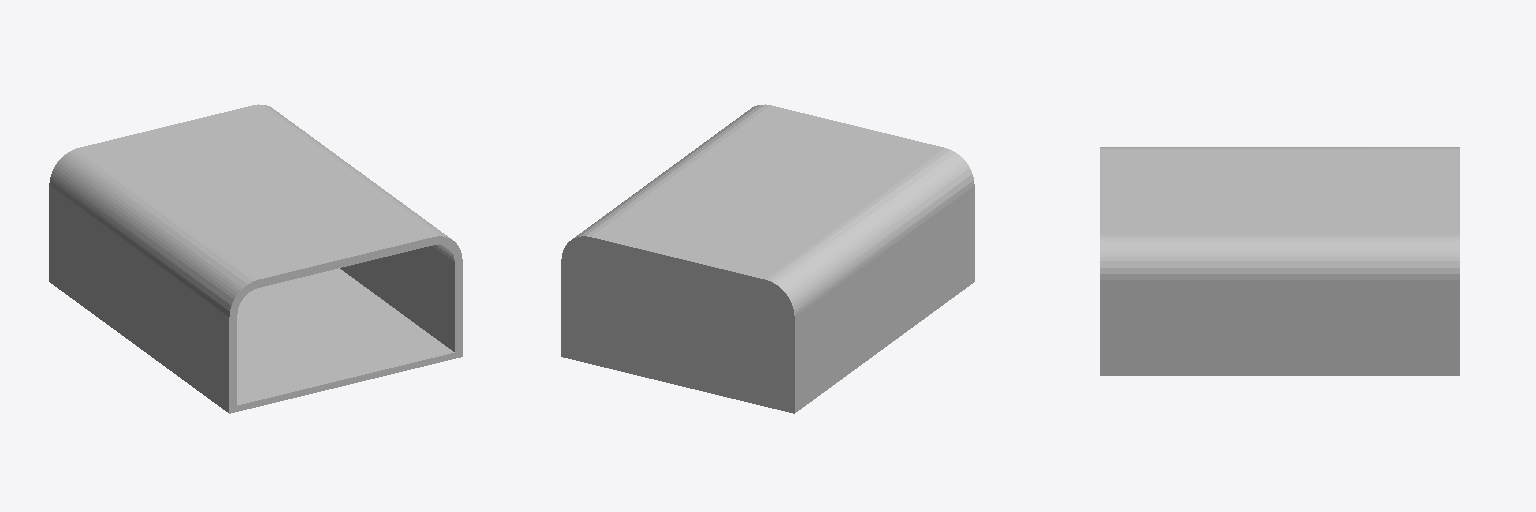
3 views of the same model, side by side, from view 1: azimuth 30°, elevation 25°; view 2: azimuth 150°, elevation 25°; view 3: azimuth 270°, elevation 25° (orthographic).
Parts seen in each view (by area): view 1: object_4, object_2, object_3, object_1; view 2: object_4, object_2, object_5, object_1, object_3; view 3: object_1, object_4, object_3, object_2.
Part boxes in pixels (left/top/right/bottom): object_4: left=79, top=105, right=432, bottom=287; object_2: left=49, top=148, right=258, bottom=407; object_3: left=49, top=268, right=462, bottom=413; object_1: left=254, top=104, right=462, bottom=351; object_4: left=591, top=105, right=944, bottom=287; object_2: left=765, top=148, right=974, bottom=407; object_5: left=569, top=245, right=786, bottom=405; object_1: left=561, top=104, right=769, bottom=351; object_3: left=561, top=276, right=974, bottom=413; object_1: left=1100, top=235, right=1459, bottom=369; object_4: left=1100, top=150, right=1459, bottom=234; object_3: left=1100, top=370, right=1459, bottom=375; object_2: left=1100, top=147, right=1459, bottom=149.
Size of the model in its own units: 7.97 by 4.15 by 10.66.